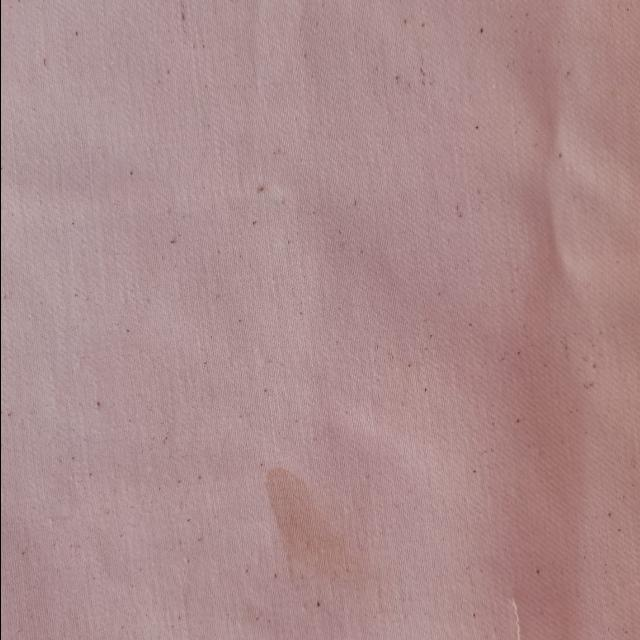taaaches: (252, 442, 379, 626)
